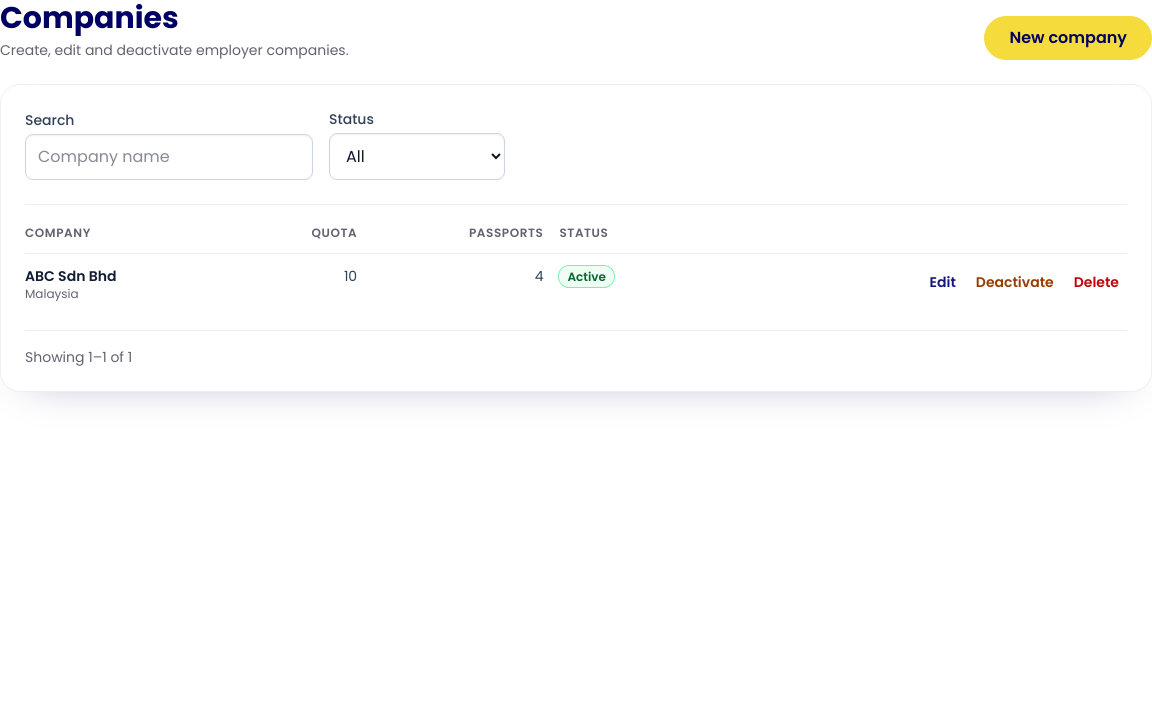
Test: Companies (operations head) › requires a valid quota (0)
The width and height of the screenshot is (1152, 720).
Click the button "New company" at {"x": 1068, "y": 38}, box x1=984 y1=16 x2=1151 y2=60
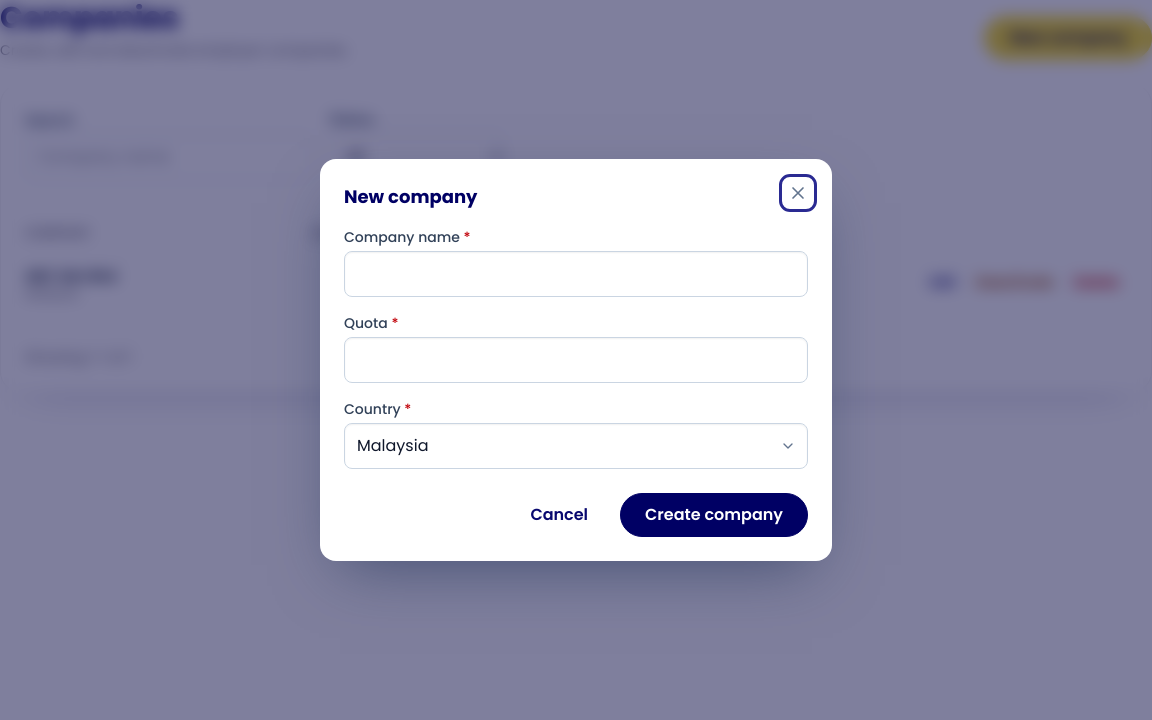
Type "New Co" into the field labelled "Company name *" at {"x": 576, "y": 274}, box x1=344 y1=251 x2=808 y2=297
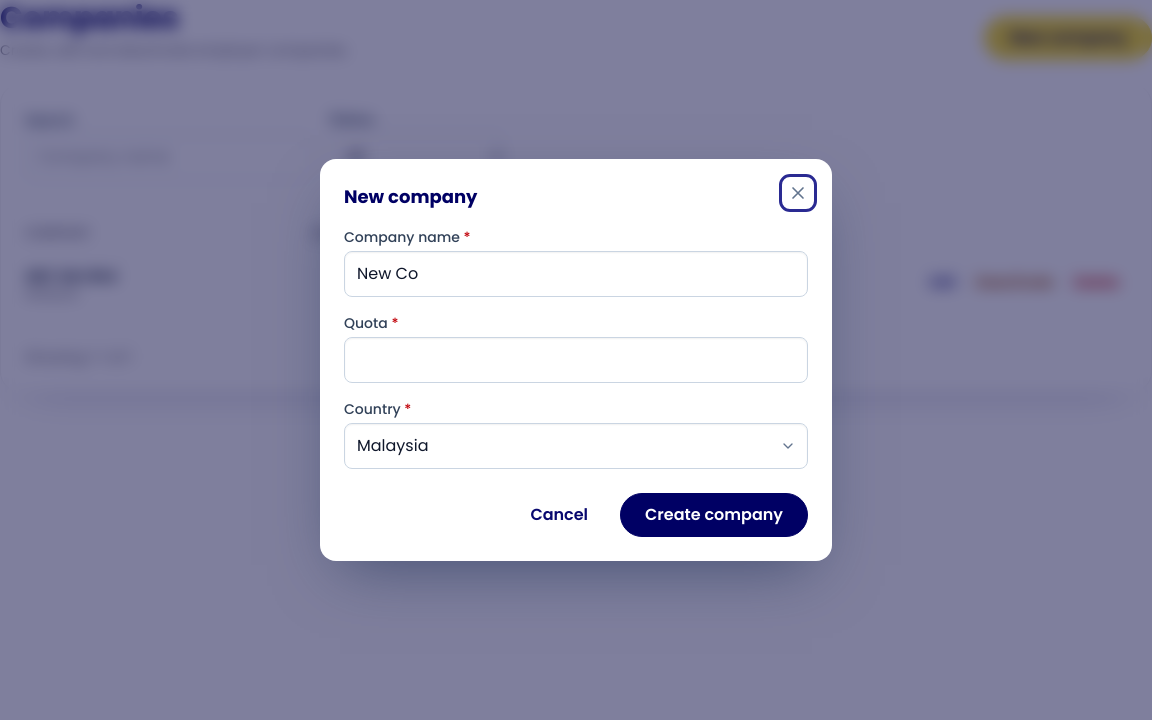
Type "0" into the number field labelled "Quota *" at {"x": 576, "y": 360}, box x1=344 y1=337 x2=808 y2=383
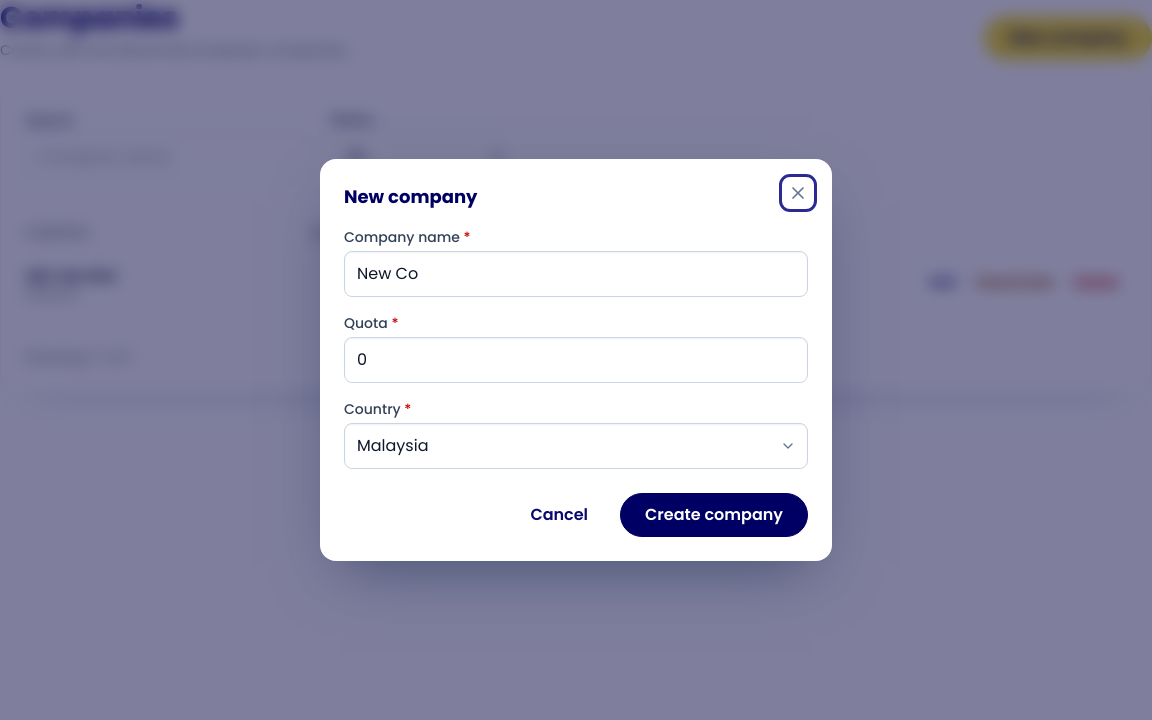
Submit the form, box x1=344 y1=227 x2=808 y2=537
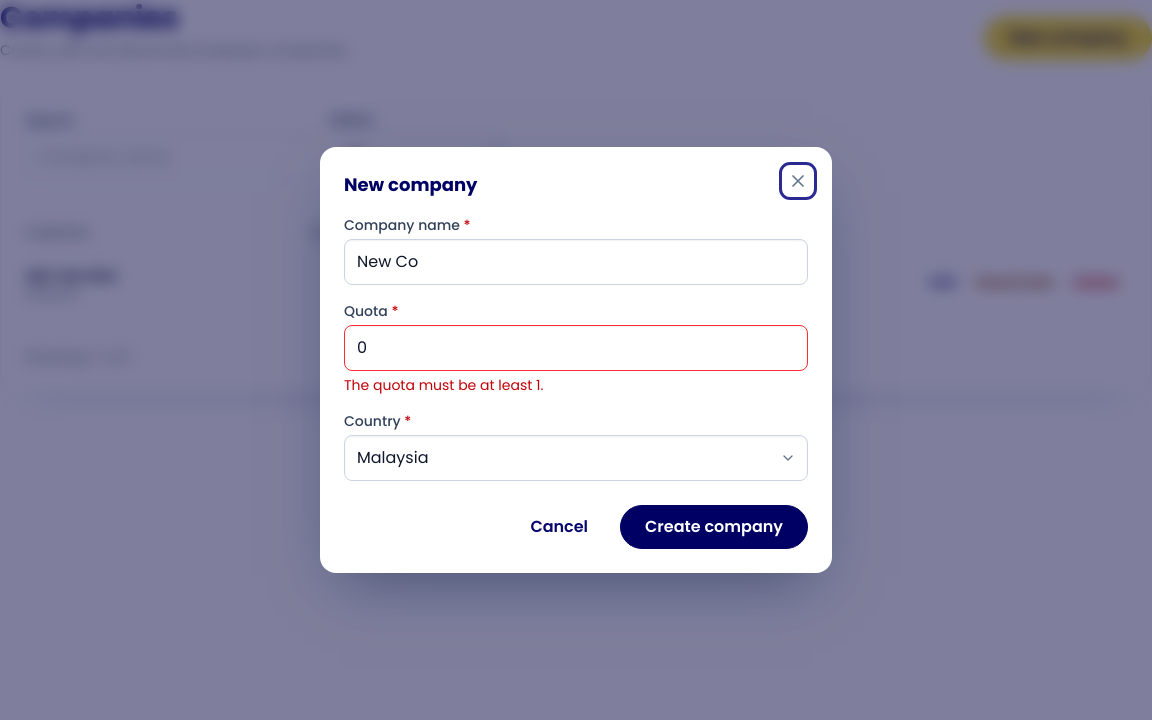
Now the element showing "Quota * The quota must be at least 1." is shown, box x1=344 y1=301 x2=808 y2=395
